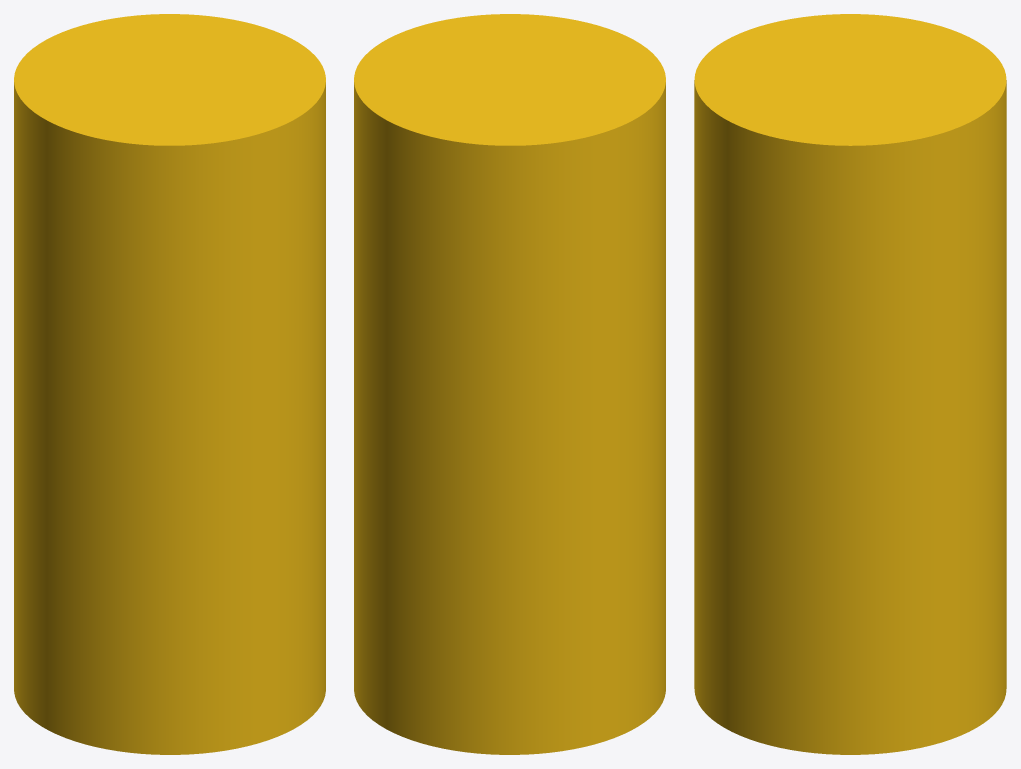
3 views of the same model, side by side, from view 1: azimuth 30°, elevation 25°; view 2: azimuth 150°, elevation 25°; view 3: azimuth 270°, elevation 25° (orthographic).
Visible parts, largest first — view 1: mesh_id27; view 2: mesh_id27; view 3: mesh_id27.
Part boxes in pixels (x1,y1,x2,y2): mesh_id27: (14,14,325,754); mesh_id27: (354,14,665,754); mesh_id27: (694,14,1006,754).
Bounding box in the file's own units: 0.0127 × 0.0273 × 0.0127.
Materials: 1 (1 with a texture image).
